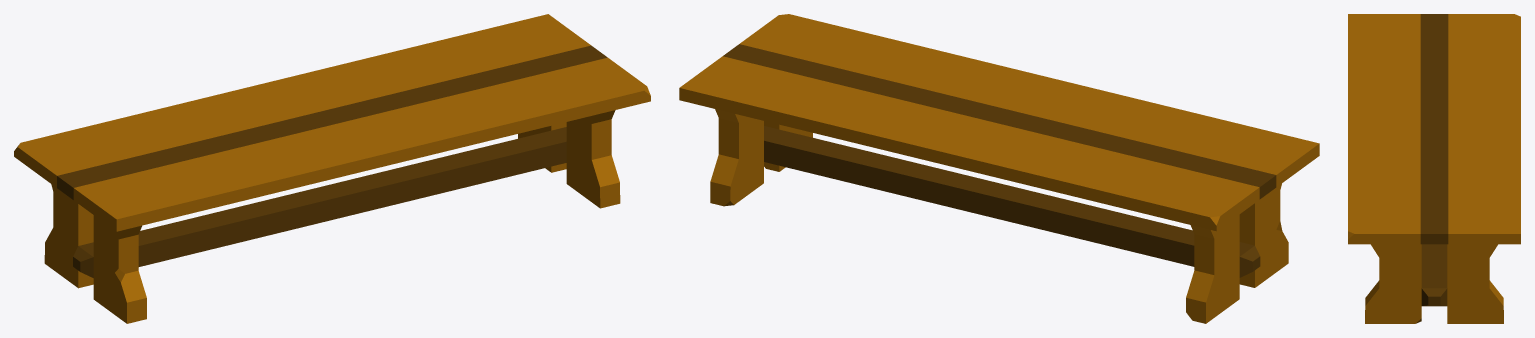
Rendered from BigTable_01.fbx.
3 views of the same model, side by side, from view 1: azimuth 30°, elevation 25°; view 2: azimuth 150°, elevation 25°; view 3: azimuth 270°, elevation 25° (orthographic). The views are drawn at different scales.
Visible parts, largest first — view 1: BigTable_01; view 2: BigTable_01; view 3: BigTable_01.
Boxes of the visible parts, x1=… form: BigTable_01: x1=14, y1=14, x2=650, y2=323; BigTable_01: x1=679, y1=14, x2=1319, y2=323; BigTable_01: x1=1348, y1=14, x2=1520, y2=323.
Bounding box in the file's own units: 462 × 96.7 × 154.
